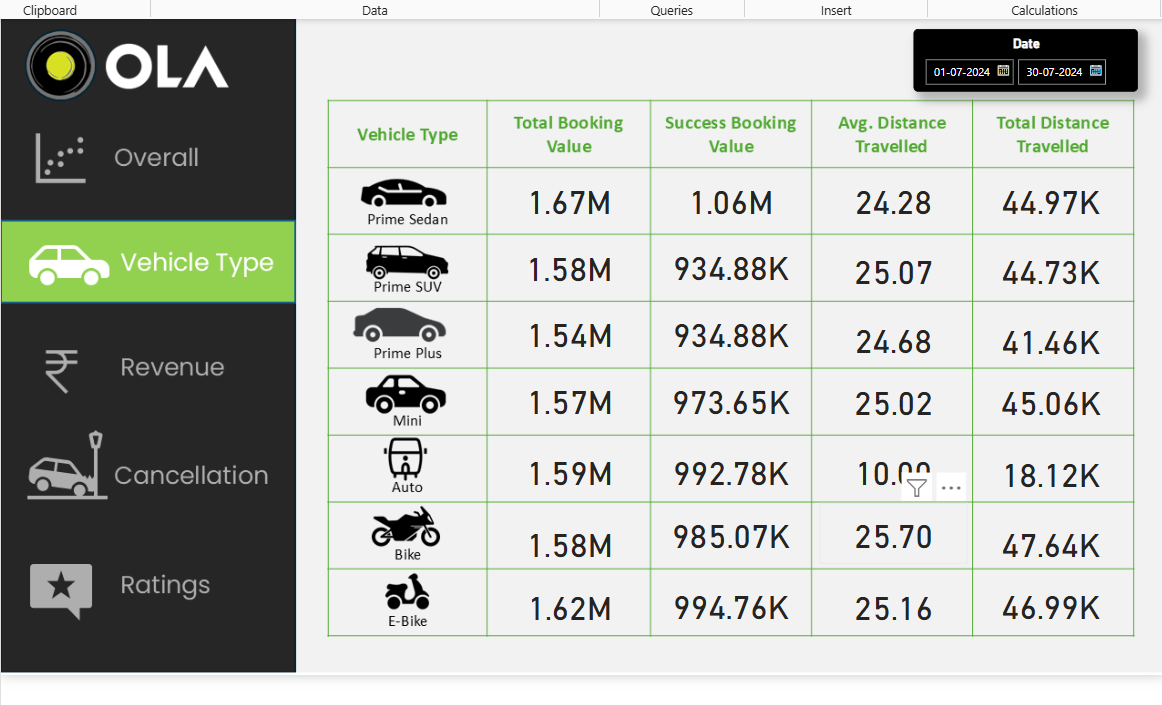

Layout of this report page (visuals, bound fields, positions):
{"tool":"powerbi","page":{"name":"Vehicle Type","canvas":[1280,720],"ordinal":1},"visuals":[{"type":"actionButton","box":[0,329.4,324.5,89.3],"z":0},{"type":"actionButton","box":[0,452.4,324.5,89.3],"z":1000},{"type":"actionButton","box":[0,588.7,324.5,89.3],"z":2000},{"type":"actionButton","box":[0,106.2,324.5,89.3],"z":3000},{"type":"card","fields":{"Values":["Sum(July.Booking_Value)"]},"box":[542.5,165.3,163.8,67.6],"z":4000},{"type":"card","fields":{"Values":["Sum(July.Booking_Value)"]},"box":[542.5,232.9,163.8,76.6],"z":5000},{"type":"card","fields":{"Values":["Sum(July.Booking_Value)"]},"box":[544,309.6,162.3,67.6],"z":6000},{"type":"card","fields":{"Values":["Sum(July.Booking_Value)"]},"box":[544,384.7,162.3,67.6],"z":7000},{"type":"card","fields":{"Values":["Sum(July.Booking_Value)"]},"box":[544,462.8,162.3,67.6],"z":8000},{"type":"card","fields":{"Values":["Sum(July.Booking_Value)"]},"box":[544,541,162.3,67.6],"z":9000},{"type":"card","fields":{"Values":["Sum(July.Booking_Value)"]},"box":[544,610.1,162.3,67.6],"z":10000},{"type":"card","fields":{"Values":["Sum(July.Booking_Value)"]},"box":[719.8,165.3,162.3,67.6],"z":11000},{"type":"card","fields":{"Values":["Sum(July.Booking_Value)"]},"box":[719.8,237.4,162.3,67.6],"z":12000},{"type":"card","fields":{"Values":["Sum(July.Booking_Value)"]},"box":[719.8,309.6,162.3,67.6],"z":13000},{"type":"card","fields":{"Values":["Sum(July.Booking_Value)"]},"box":[719.8,384.7,162.3,67.6],"z":14000},{"type":"card","fields":{"Values":["Sum(July.Booking_Value)"]},"box":[719.8,462.8,162.3,67.6],"z":15000},{"type":"card","fields":{"Values":["Sum(July.Booking_Value)"]},"box":[719.8,530.5,162.3,67.6],"z":16000},{"type":"card","fields":{"Values":["Sum(July.Booking_Value)"]},"box":[719.8,608.6,162.3,67.6],"z":17000},{"type":"card","fields":{"Values":["Avg(July.Ride_Distance)"]},"box":[898.6,165.3,162.3,67.6],"z":18000},{"type":"card","fields":{"Values":["Avg(July.Ride_Distance)"]},"box":[898.6,241.9,162.3,67.6],"z":19000},{"type":"card","fields":{"Values":["Avg(July.Ride_Distance)"]},"box":[898.6,317.1,162.3,67.6],"z":20000},{"type":"card","fields":{"Values":["Avg(July.Ride_Distance)"]},"box":[898.6,386.2,162.3,67.6],"z":21000},{"type":"card","fields":{"Values":["Avg(July.Ride_Distance)"]},"box":[898.6,462.8,162.3,67.6],"z":22000},{"type":"card","fields":{"Values":["Avg(July.Ride_Distance)"]},"box":[898.6,530.5,162.3,67.6],"z":23000},{"type":"card","fields":{"Values":["Avg(July.Ride_Distance)"]},"box":[898.6,610.1,162.3,67.6],"z":24000},{"type":"card","fields":{"Values":["Sum(July.Ride_Distance)"]},"box":[1071.4,165.3,162.3,67.6],"z":25000},{"type":"card","fields":{"Values":["Sum(July.Ride_Distance)"]},"box":[1071.4,241.9,162.3,67.6],"z":26000},{"type":"card","fields":{"Values":["Sum(July.Ride_Distance)"]},"box":[1071.4,318.6,162.3,67.6],"z":27000},{"type":"card","fields":{"Values":["Sum(July.Ride_Distance)"]},"box":[1071.4,386.2,162.3,67.6],"z":28000},{"type":"card","fields":{"Values":["Sum(July.Ride_Distance)"]},"box":[1071.4,464.3,162.3,67.6],"z":29000},{"type":"card","fields":{"Values":["Sum(July.Ride_Distance)"]},"box":[1071.4,541,162.3,67.6],"z":30000},{"type":"card","fields":{"Values":["Sum(July.Ride_Distance)"]},"box":[1071.4,608.6,162.3,67.6],"z":31000},{"type":"slicer","title":"Date","fields":{"Values":["July.Date"]},"box":[1002.3,10.5,246.4,69.1],"z":32000}]}

Visuals, with their boxes on the page's 1280x720 design canvas (x1, y1, x2, y2). These are canvas units, not pixel positions in the 1162x705 screenshot, which may show the page scaled, cropped or inside an application window:
actionButton: 0, 329, 324, 419
actionButton: 0, 452, 324, 542
actionButton: 0, 589, 324, 678
actionButton: 0, 106, 324, 196
card - Sum(July.Booking_Value): 542, 165, 706, 233
card - Sum(July.Booking_Value): 542, 233, 706, 310
card - Sum(July.Booking_Value): 544, 310, 706, 377
card - Sum(July.Booking_Value): 544, 385, 706, 452
card - Sum(July.Booking_Value): 544, 463, 706, 530
card - Sum(July.Booking_Value): 544, 541, 706, 609
card - Sum(July.Booking_Value): 544, 610, 706, 678
card - Sum(July.Booking_Value): 720, 165, 882, 233
card - Sum(July.Booking_Value): 720, 237, 882, 305
card - Sum(July.Booking_Value): 720, 310, 882, 377
card - Sum(July.Booking_Value): 720, 385, 882, 452
card - Sum(July.Booking_Value): 720, 463, 882, 530
card - Sum(July.Booking_Value): 720, 530, 882, 598
card - Sum(July.Booking_Value): 720, 609, 882, 676
card - Avg(July.Ride_Distance): 899, 165, 1061, 233
card - Avg(July.Ride_Distance): 899, 242, 1061, 310
card - Avg(July.Ride_Distance): 899, 317, 1061, 385
card - Avg(July.Ride_Distance): 899, 386, 1061, 454
card - Avg(July.Ride_Distance): 899, 463, 1061, 530
card - Avg(July.Ride_Distance): 899, 530, 1061, 598
card - Avg(July.Ride_Distance): 899, 610, 1061, 678
card - Sum(July.Ride_Distance): 1071, 165, 1234, 233
card - Sum(July.Ride_Distance): 1071, 242, 1234, 310
card - Sum(July.Ride_Distance): 1071, 319, 1234, 386
card - Sum(July.Ride_Distance): 1071, 386, 1234, 454
card - Sum(July.Ride_Distance): 1071, 464, 1234, 532
card - Sum(July.Ride_Distance): 1071, 541, 1234, 609
card - Sum(July.Ride_Distance): 1071, 609, 1234, 676
"Date" slicer: 1002, 10, 1249, 80
